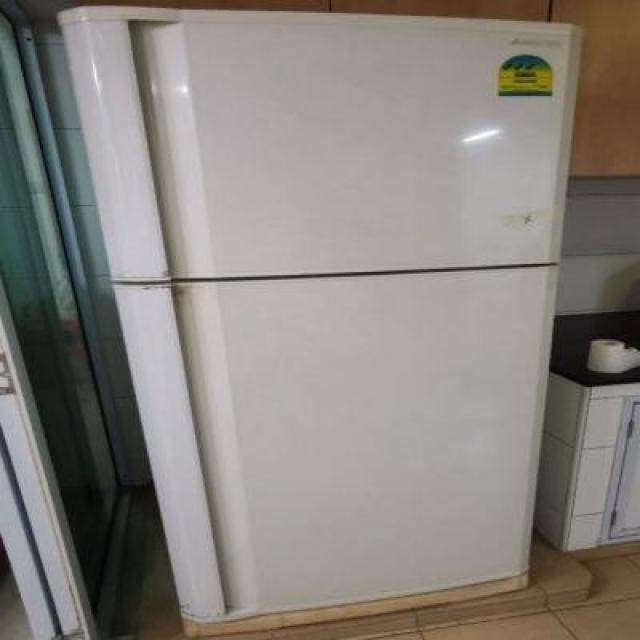refrigerator: (59, 6, 579, 634)
